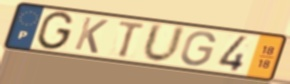4: (215, 34, 253, 73)
G: (34, 11, 76, 52), (179, 30, 218, 68)
K: (72, 15, 111, 56)
T: (116, 19, 148, 59)
U: (140, 22, 188, 65)
